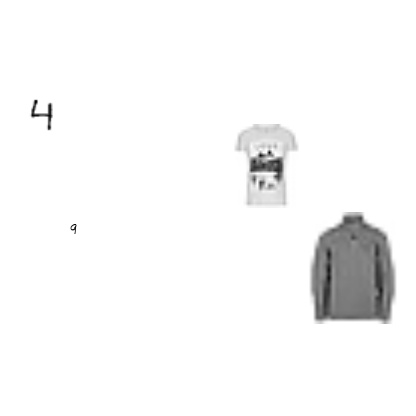4: (21, 91, 63, 133)
9: (67, 221, 81, 235)
Pullover: (295, 212, 407, 324)
T-shirt/top: (223, 124, 307, 208)
